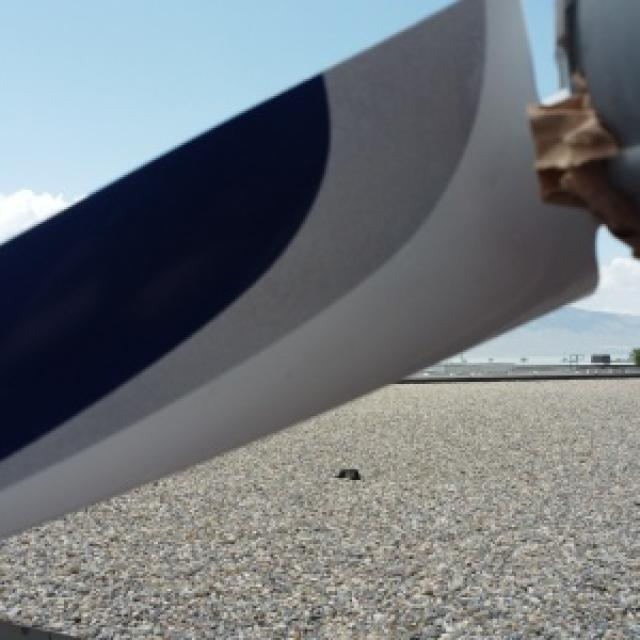healthy: (0, 382, 638, 638)
